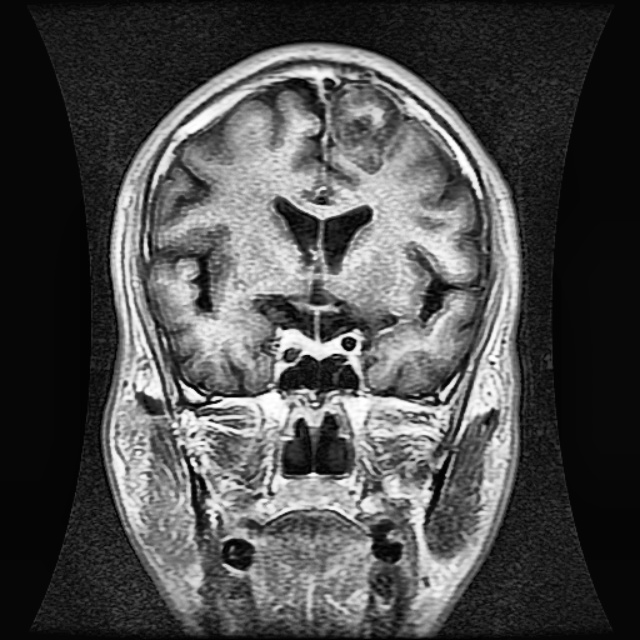Glioma: (324, 82, 405, 172)
